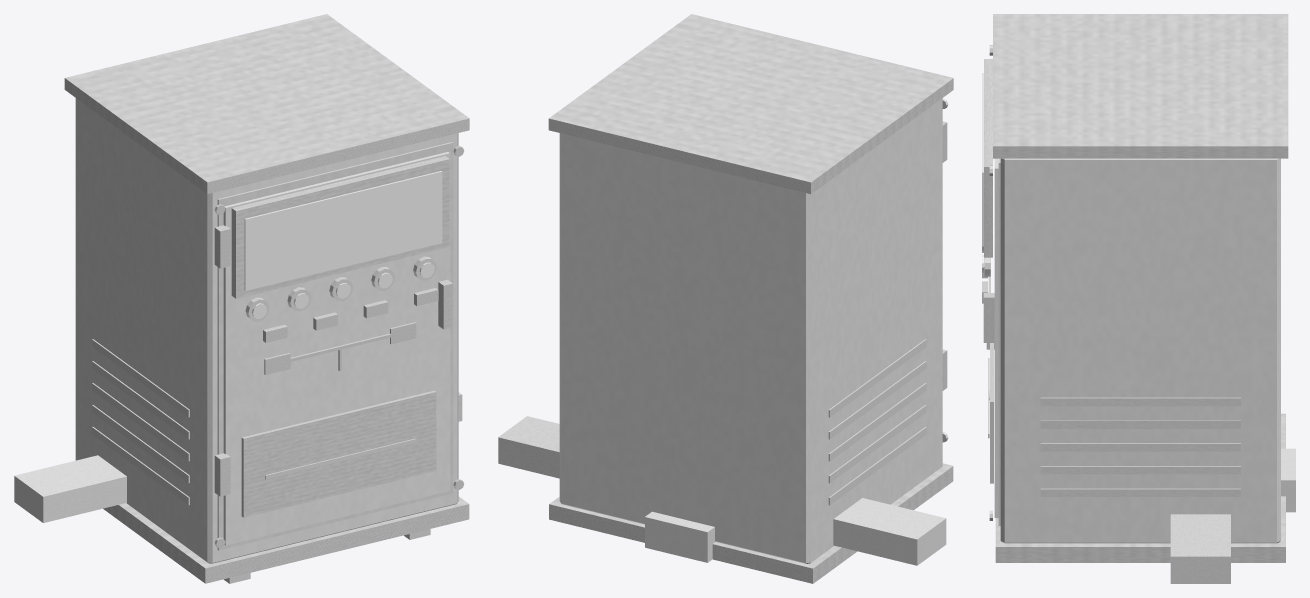
File: automatictransferswitch.obj
The picture shows the model from 3 angles, left to right: view 1: azimuth 30°, elevation 25°; view 2: azimuth 150°, elevation 25°; view 3: azimuth 270°, elevation 25°; orthographic projection. The views are drawn at different scales.
Visible parts, largest first — view 1: Case, Trim, Display, Vents, Mains; view 2: Case, Trim, Mains, Vents, Output, Backup; view 3: Case, Trim, Vents, Output, Backup.
Part boxes in pixels (x1,y1,x2,y2): Case: (75,98,458,563); Trim: (64,14,469,583); Display: (244,171,442,290); Vents: (92,142,453,583); Mains: (14,455,126,522); Case: (559,98,942,563); Trim: (548,14,953,583); Mains: (833,498,946,565); Vents: (828,339,926,505); Output: (498,416,559,478); Backup: (645,511,715,562); Case: (994,158,1280,543); Trim: (982,14,1288,562); Vents: (984,158,1240,525); Output: (1170,514,1230,583); Backup: (1281,448,1295,512).
Bounding box in the file's own units: 1 × 0.947 × 0.627.
